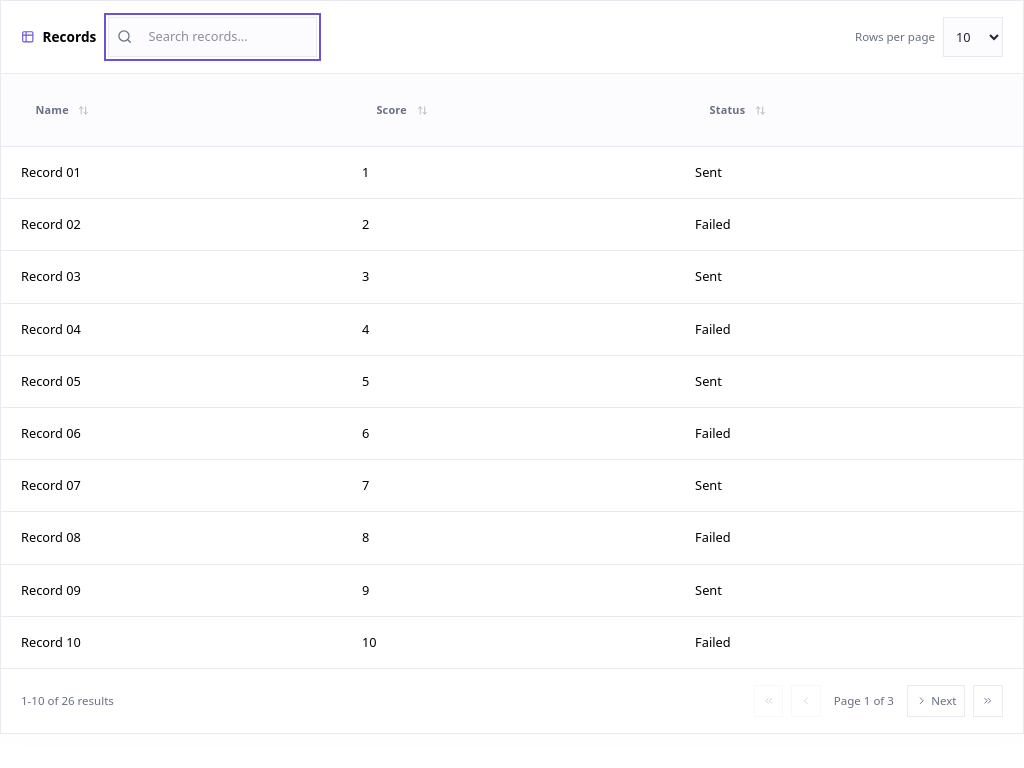
Test: shows a useful empty filtered state and keeps the search focused
Type "does not exist" into the search field.
click(228, 37); type("does not exist")  # box [140,18,316,56]
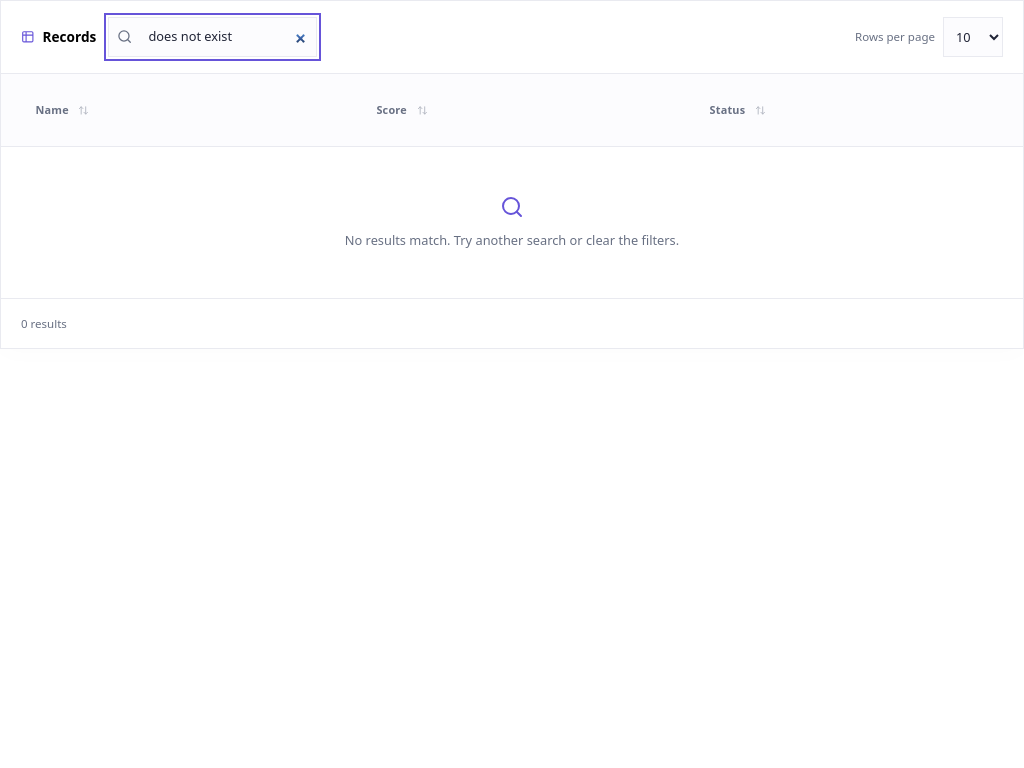
Now the text "No results match. Try another search or clear the filters." is shown, box [345,195,679,249]
Now the text "0 results" is shown, box [21,315,67,332]
